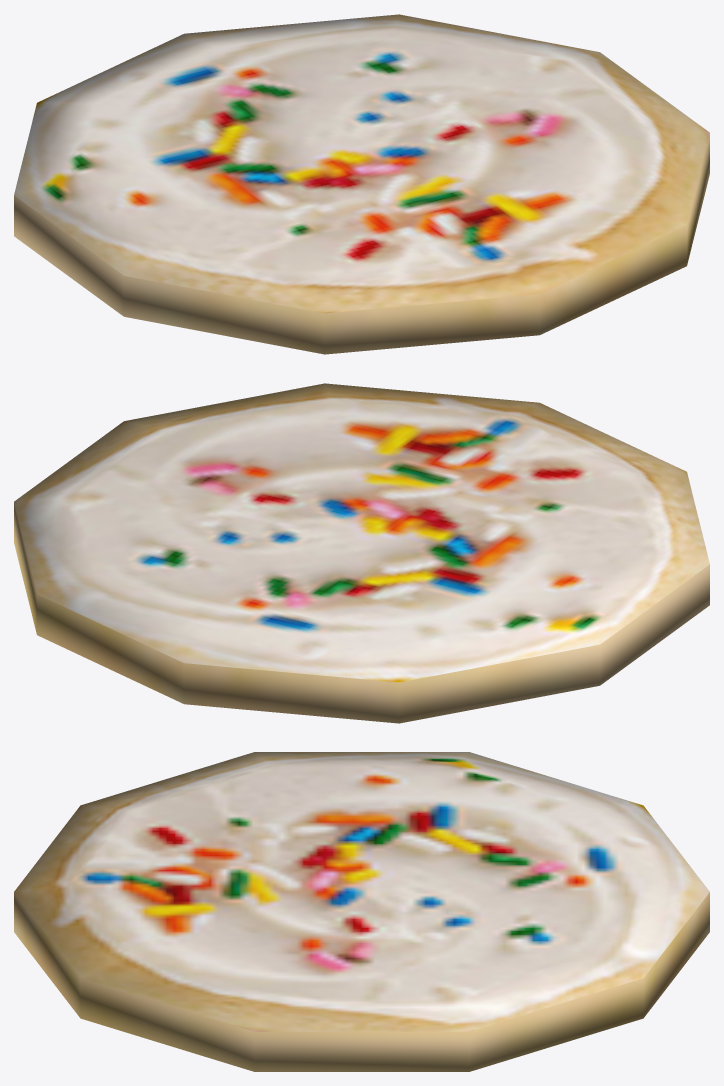
Rendered from WorldItem_FrostedCookie.fbx.
3 views of the same model, one above another, from view 1: azimuth 30°, elevation 25°; view 2: azimuth 150°, elevation 25°; view 3: azimuth 270°, elevation 25° (orthographic). The views are drawn at different scales.
Parts seen in each view (by area): view 1: FrostedCookie; view 2: FrostedCookie; view 3: FrostedCookie.
Part boxes in pixels (bbox=[...]): FrostedCookie: bbox=[14, 14, 709, 354]; FrostedCookie: bbox=[14, 383, 709, 723]; FrostedCookie: bbox=[14, 752, 709, 1071].
Size of the model in its own units: 0.0671 by 0.0056 by 0.0705.
